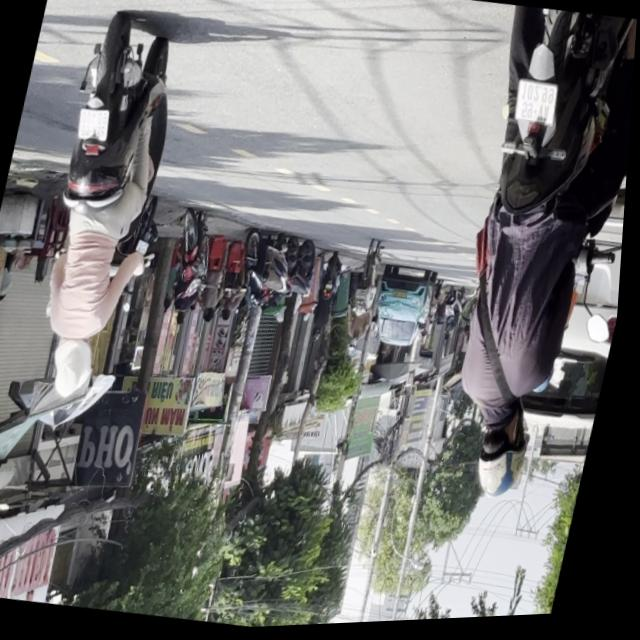helmet: (472, 403, 539, 506)
licenseplate: (408, 4, 639, 518), (14, 7, 198, 408)
motorcyclist: (49, 332, 101, 401)
nohelmet: (512, 83, 561, 132), (76, 107, 112, 144)
